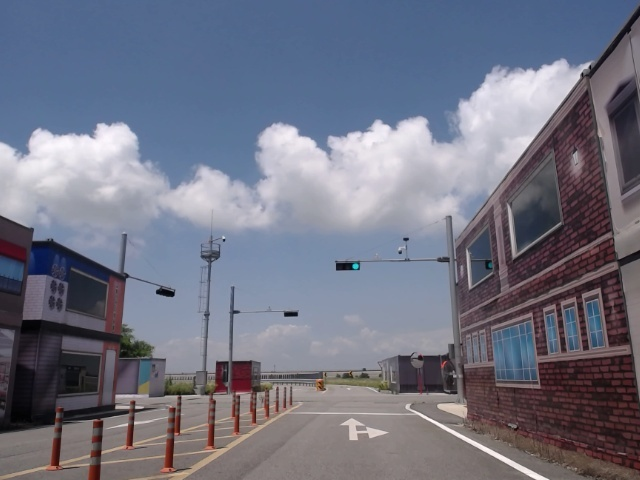green_3: (336, 263, 360, 271)
